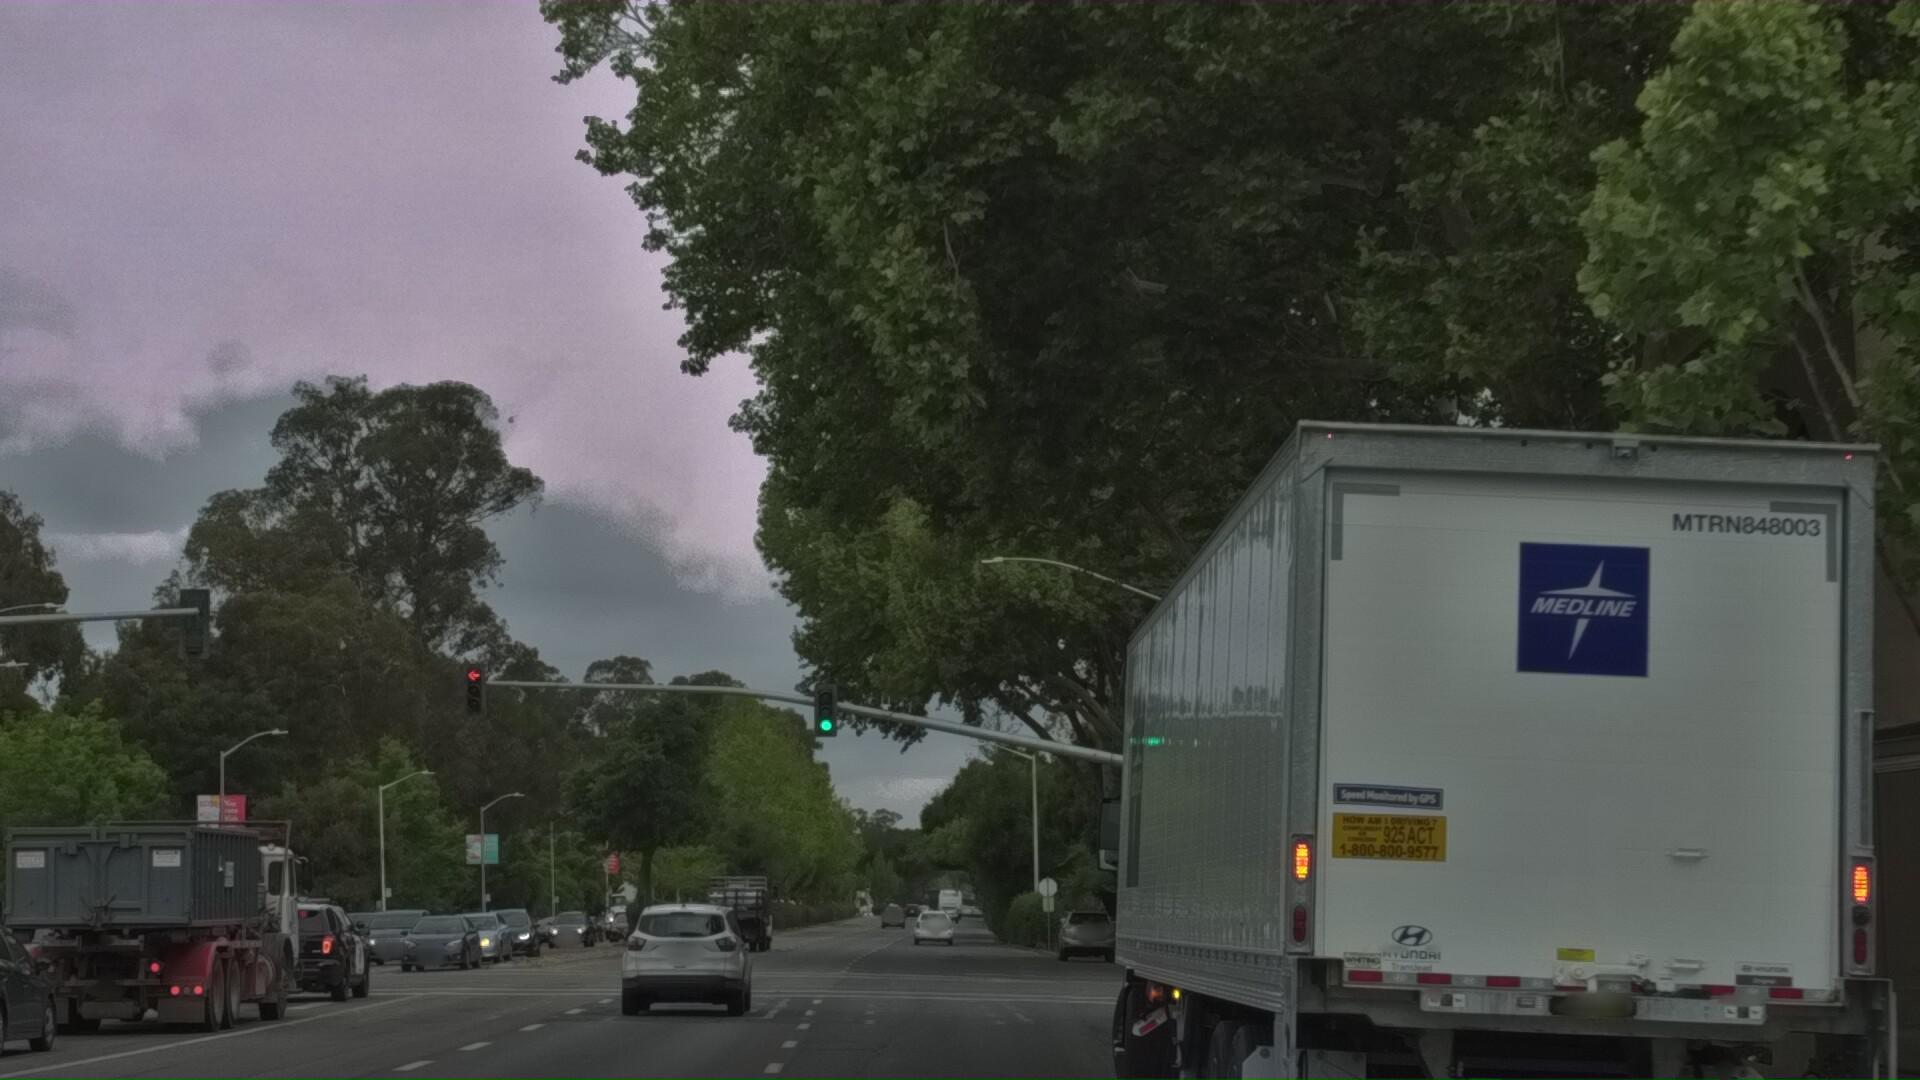car: (611, 984, 765, 1080), (0, 992, 82, 1080), (1919, 807, 1920, 1080)
emergency_vehicle: (223, 978, 389, 1080)
truck: (1079, 179, 1920, 1080), (0, 852, 328, 1080)
